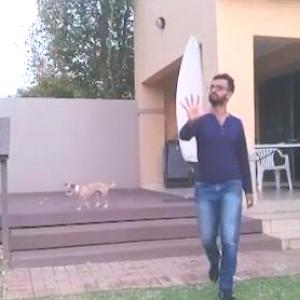follow_hand: (177, 90, 208, 125)
